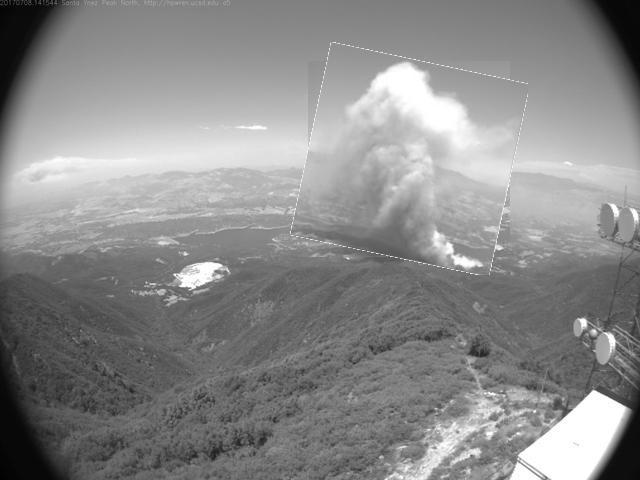smoke: (300, 53, 521, 268)
